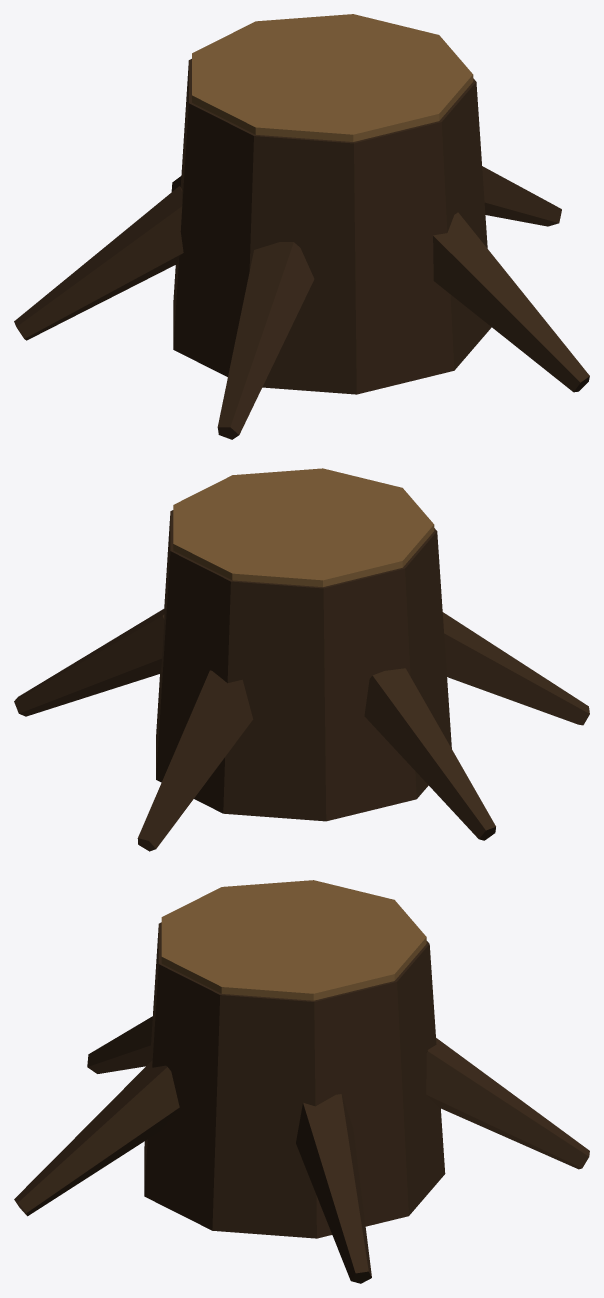
File: ground_stump_2.glb
The picture shows the model from 3 angles, top to bottom: view 1: azimuth 30°, elevation 25°; view 2: azimuth 150°, elevation 25°; view 3: azimuth 270°, elevation 25°; orthographic projection. The views are drawn at different scales.
Visible parts, largest first — view 1: wood; view 2: wood; view 3: wood.
Part boxes in pixels (box(x1,y1,x2,y2)): wood: box(14, 14, 589, 439); wood: box(14, 468, 589, 851); wood: box(14, 880, 589, 1283).
Bounding box in the file's own units: 1.51 × 0.6837 × 1.51.
